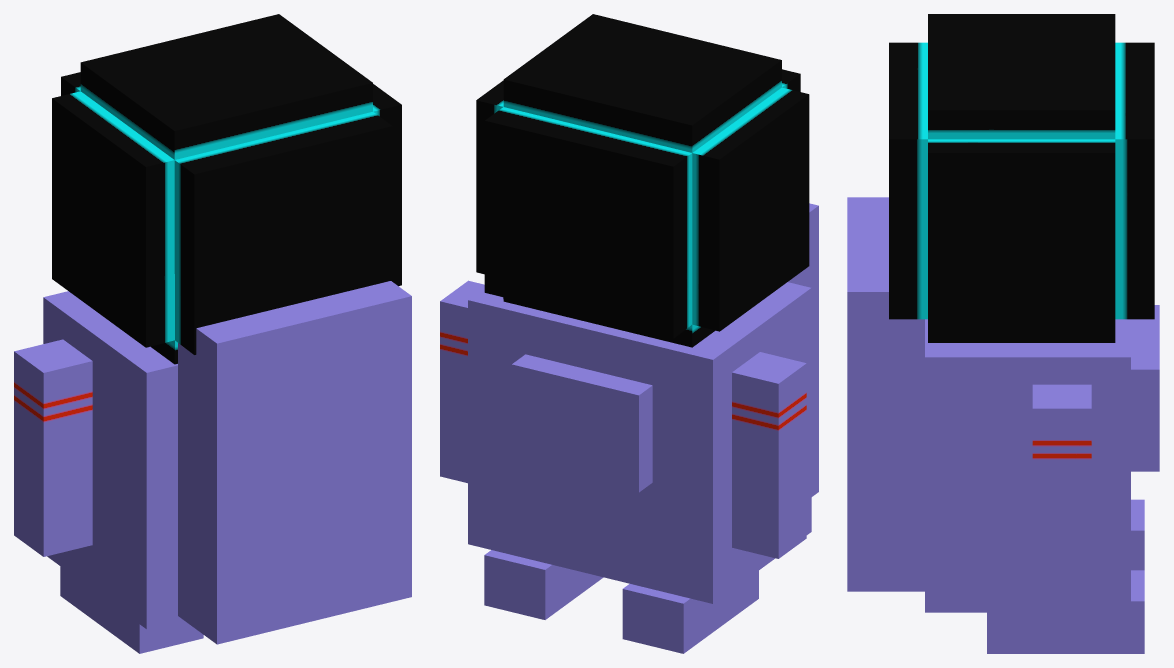
File: ParentKoala.obj
The picture shows the model from 3 angles, left to right: view 1: azimuth 30°, elevation 25°; view 2: azimuth 150°, elevation 25°; view 3: azimuth 270°, elevation 25°; orthographic projection. The views are drawn at different scales.
Visible parts, largest first — view 1: Arm, Arm.007; view 2: Arm, Arm.007; view 3: Arm, Arm.007.
Boxes of the visible parts, left/top/right/bottom form: Arm: left=14, top=281, right=411, bottom=653; Arm.007: left=52, top=14, right=401, bottom=364; Arm: left=440, top=203, right=818, bottom=653; Arm.007: left=476, top=14, right=809, bottom=347; Arm: left=847, top=197, right=1159, bottom=653; Arm.007: left=889, top=14, right=1154, bottom=342.
Bounding box in the file's own units: 0.9838 × 1.44 × 0.752.
1 material, 1 textured.
